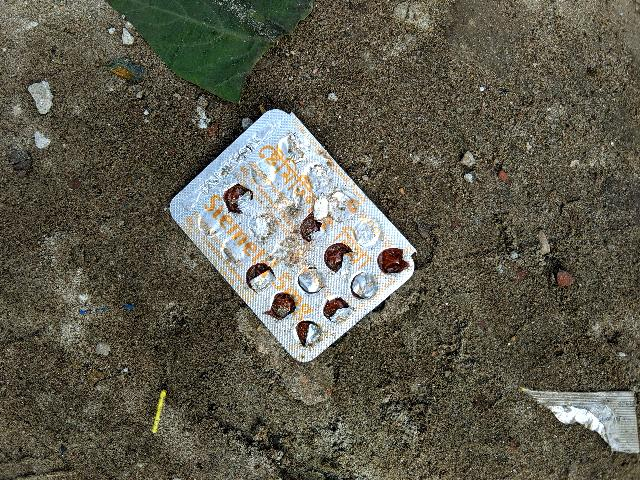medicine: (157, 85, 434, 366)
